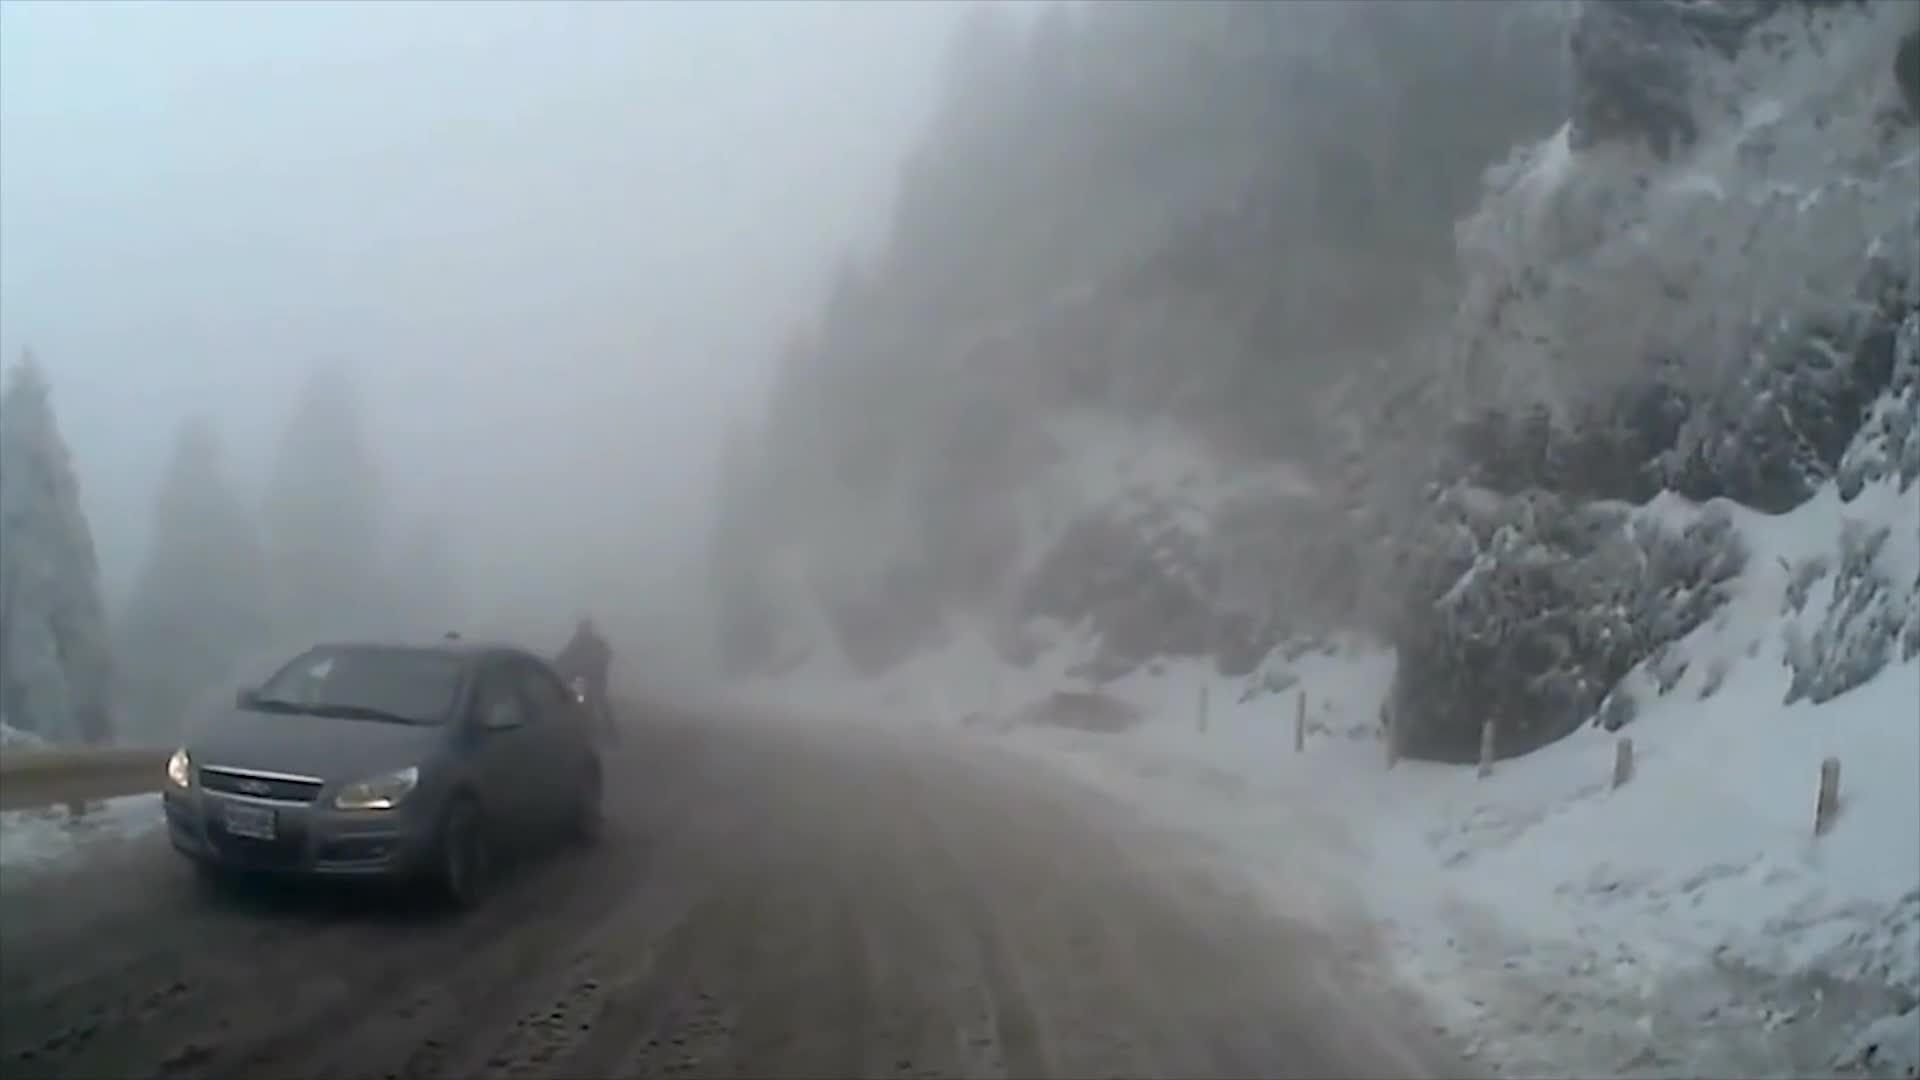vehicle: (164, 632, 608, 911)
